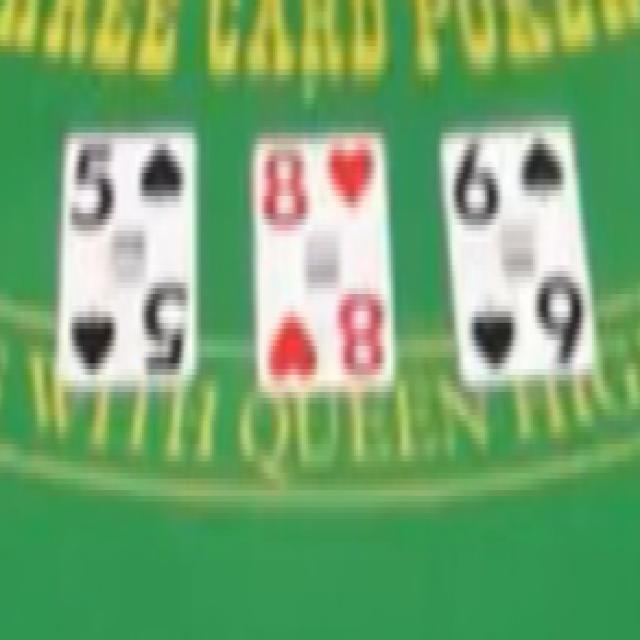Card-5: (59, 130, 194, 382)
Card-6: (444, 117, 593, 380)
Card-8: (257, 133, 394, 394)
